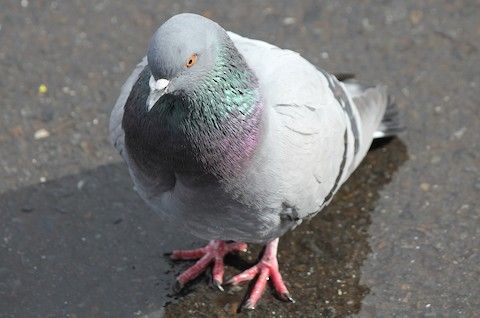pigeon: (106, 10, 402, 315)
